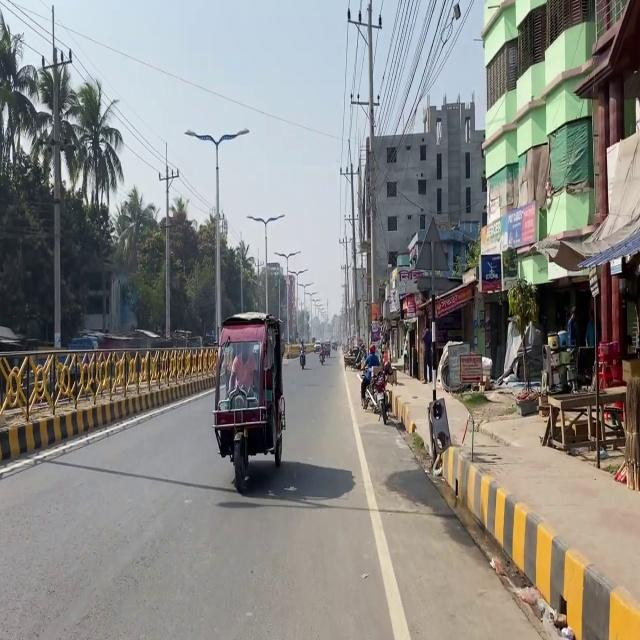Construction-barrier: (448, 414, 615, 638)
Fallen-tree: (357, 364, 393, 425), (298, 340, 306, 369), (318, 347, 326, 364)
Garbage-bin: (227, 342, 257, 398), (359, 344, 381, 405), (421, 325, 432, 383)
Pole: (0, 334, 218, 458)
Pothole: (380, 359, 639, 626)
Traffic-cone: (211, 310, 286, 492)
